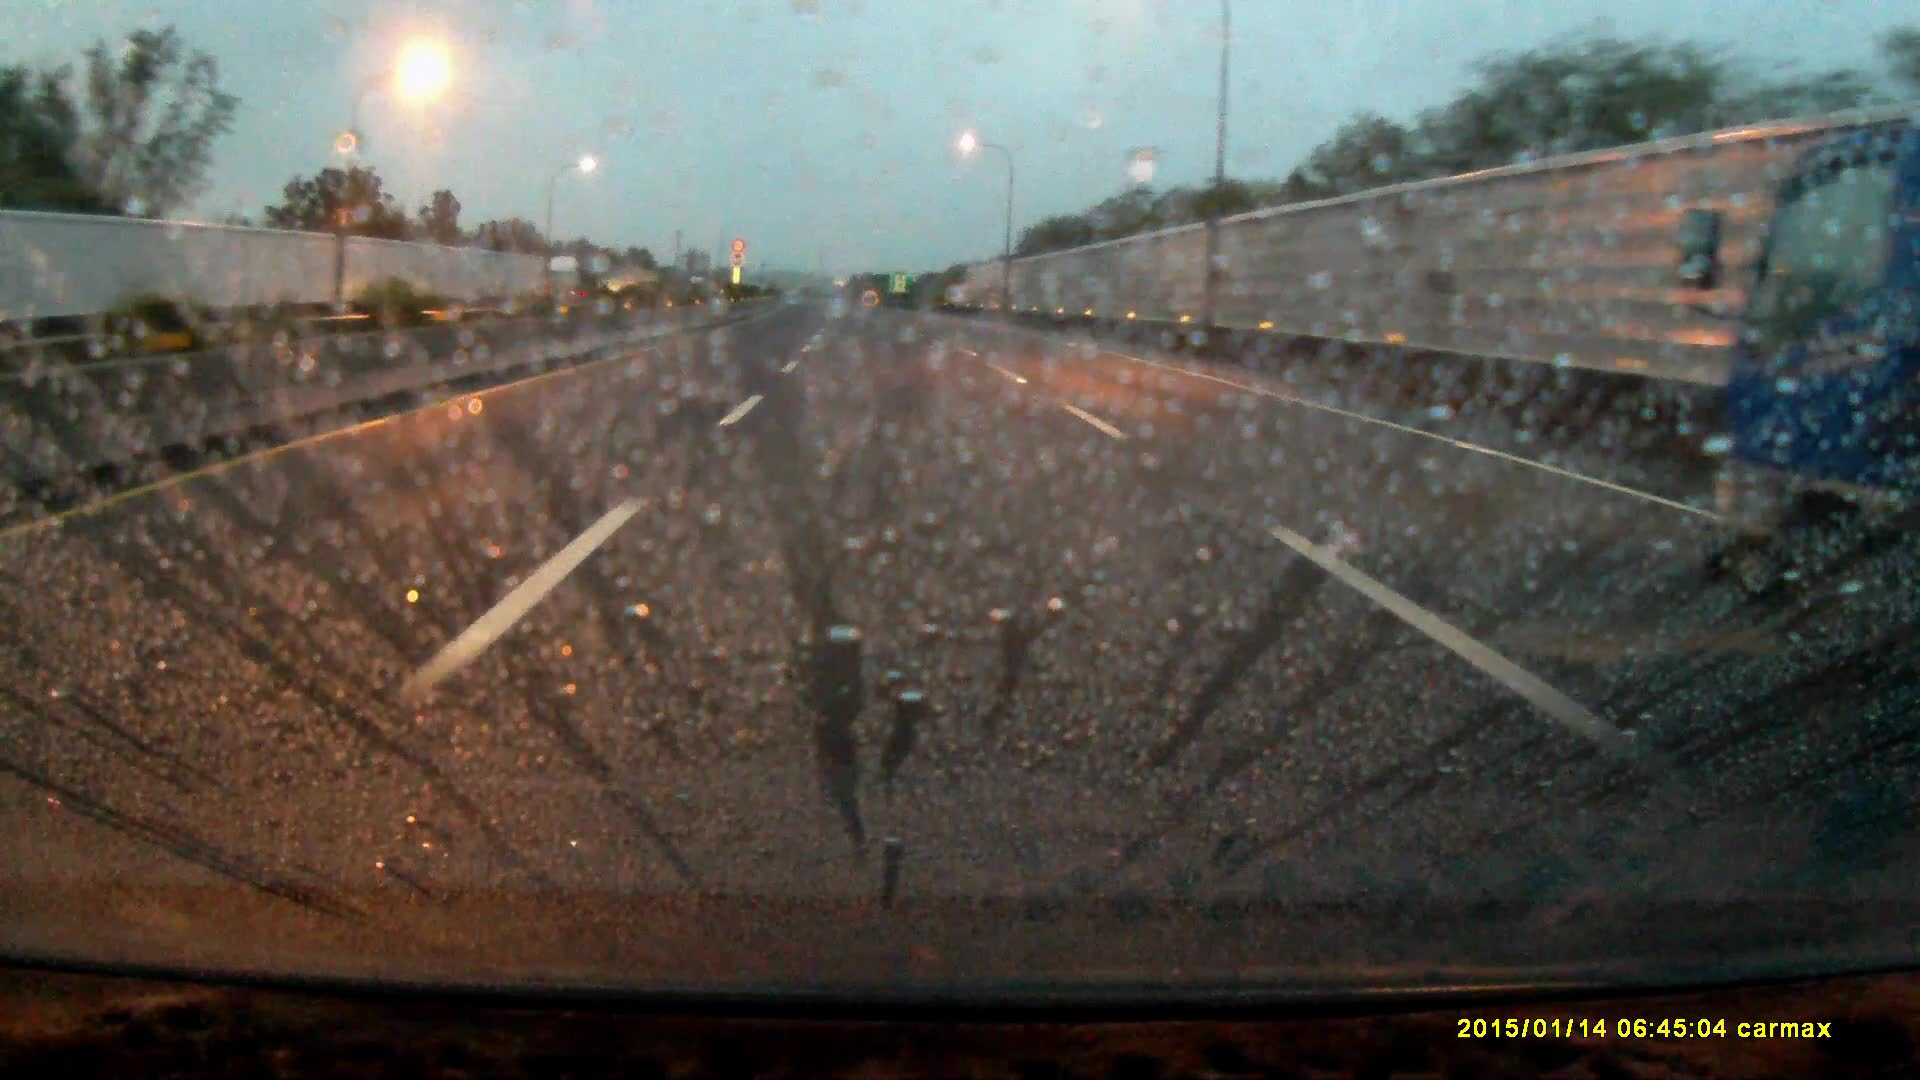vehicle: (541, 261, 593, 311)
